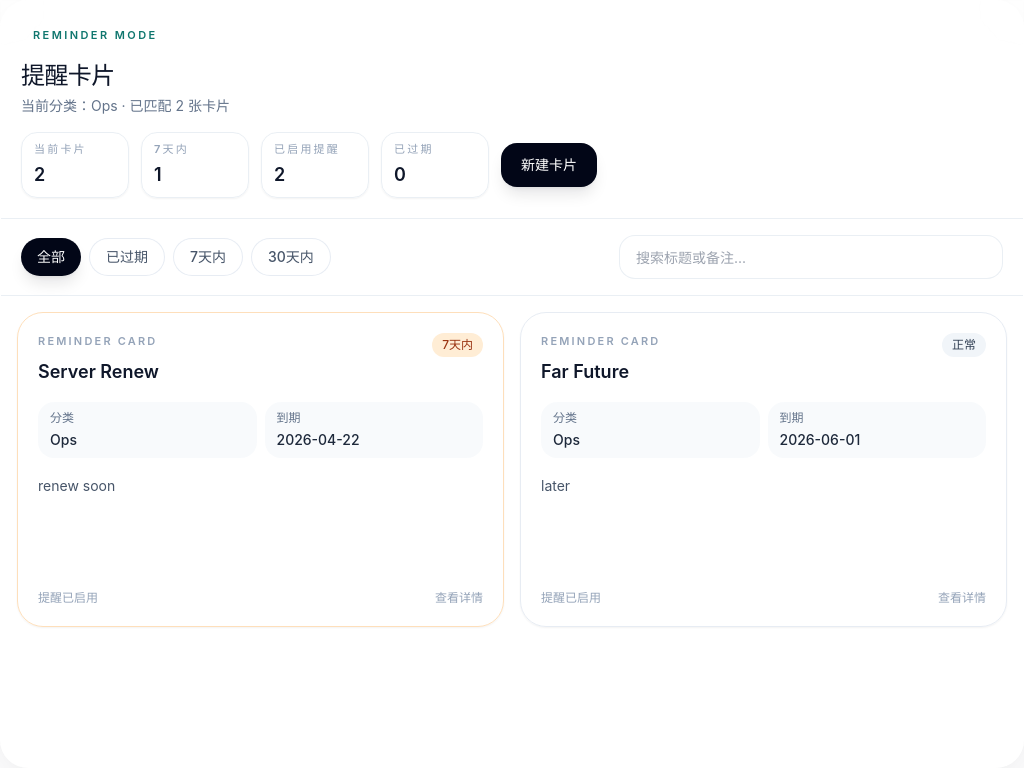
Test: ReminderBoard › renders reminder cards and filters them by reminder window
Expected: the heading "Server Renew" is shown, [38,358,159,386]
Expected: the heading "Far Future" is shown, [541,360,629,382]
Click the button "7天内": (208, 257) [173,238,243,276]
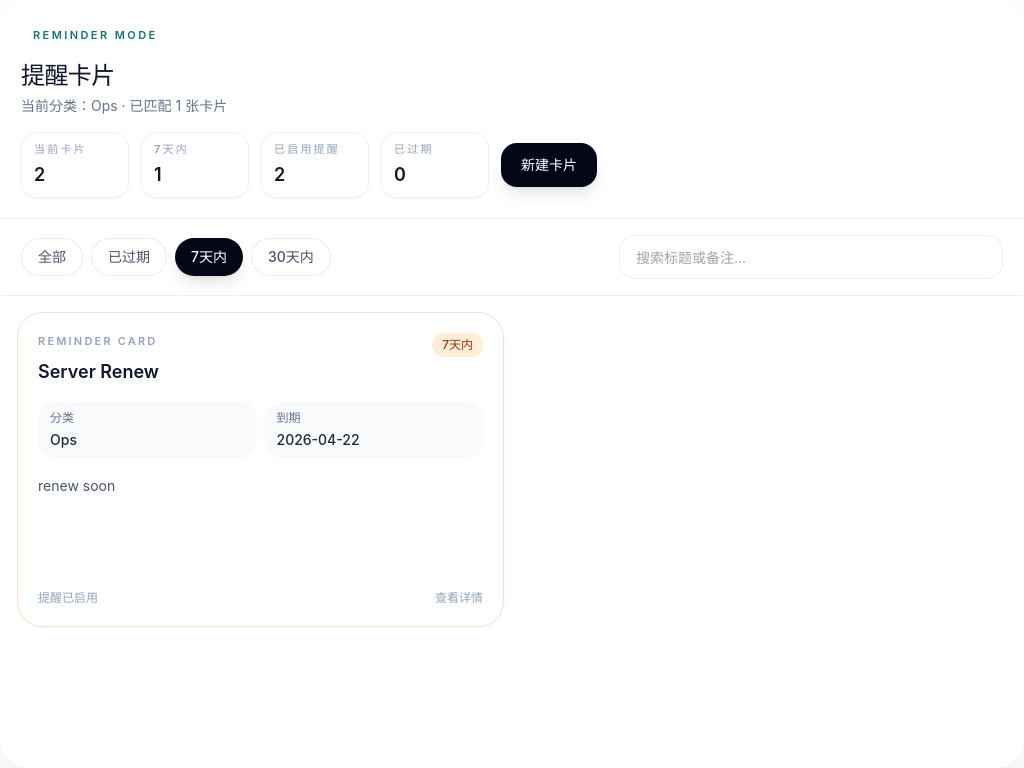
Expected: the heading "Server Renew" is shown, [38,358,159,386]
Now the button "Far Future" is gone
